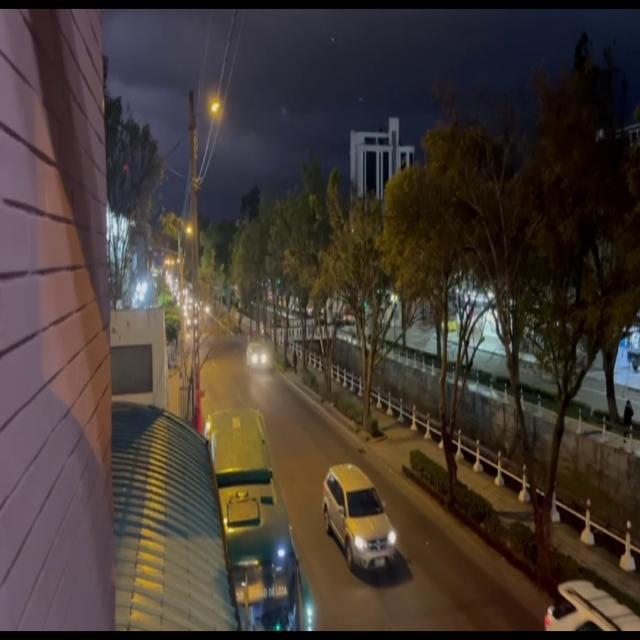BUS: (211, 417, 317, 633)
